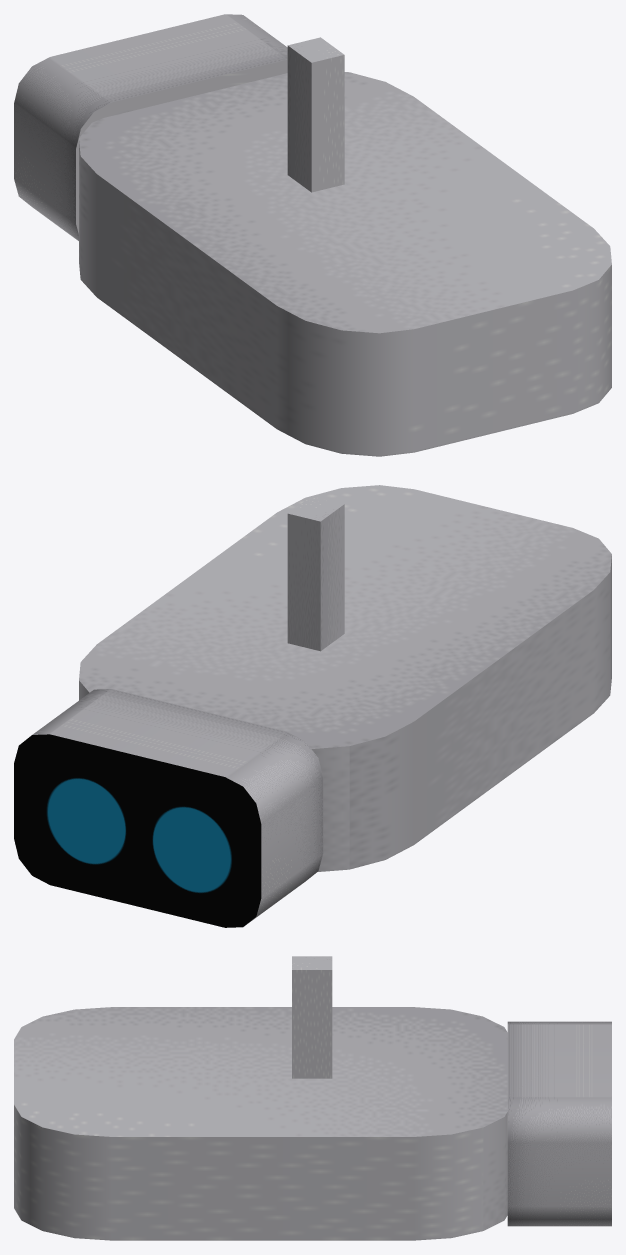
The model's file is body.obj.
The picture shows the model from 3 angles, top to bottom: view 1: azimuth 30°, elevation 25°; view 2: azimuth 150°, elevation 25°; view 3: azimuth 270°, elevation 25°; orthographic projection. The views are drawn at different scales.
Visible parts, largest first — view 1: pCube1, pCube2, pCube3; view 2: pCube1, pCube2, pCube3; view 3: pCube1, pCube2, pCube3.
Boxes of the visible parts, x1,y1,x2,y2 form: pCube1: [79, 72, 611, 456]; pCube2: [14, 14, 287, 240]; pCube3: [287, 37, 344, 192]; pCube1: [79, 485, 611, 871]; pCube2: [14, 689, 323, 927]; pCube3: [287, 496, 344, 651]; pCube1: [14, 1007, 507, 1240]; pCube2: [507, 1021, 611, 1226]; pCube3: [292, 956, 332, 1078].
Size of the model in its own units: 0.3903 by 0.314 by 0.7594.
Materials: 4 (4 with a texture image).
